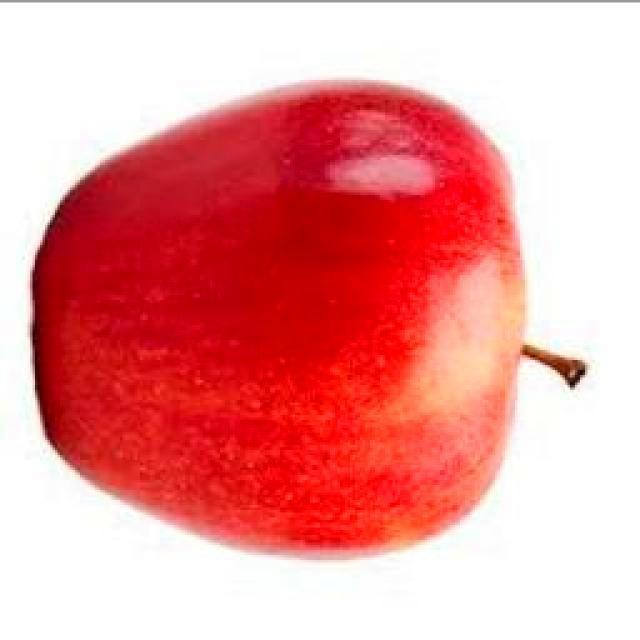Apple: (34, 84, 524, 549)
